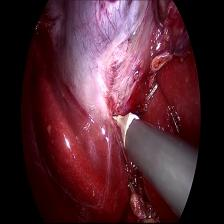Hook: (107, 106, 144, 157)
